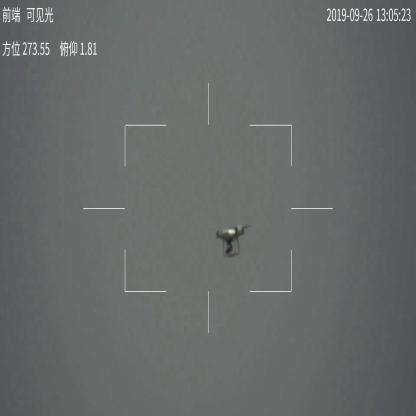uav: (212, 222, 249, 255)
